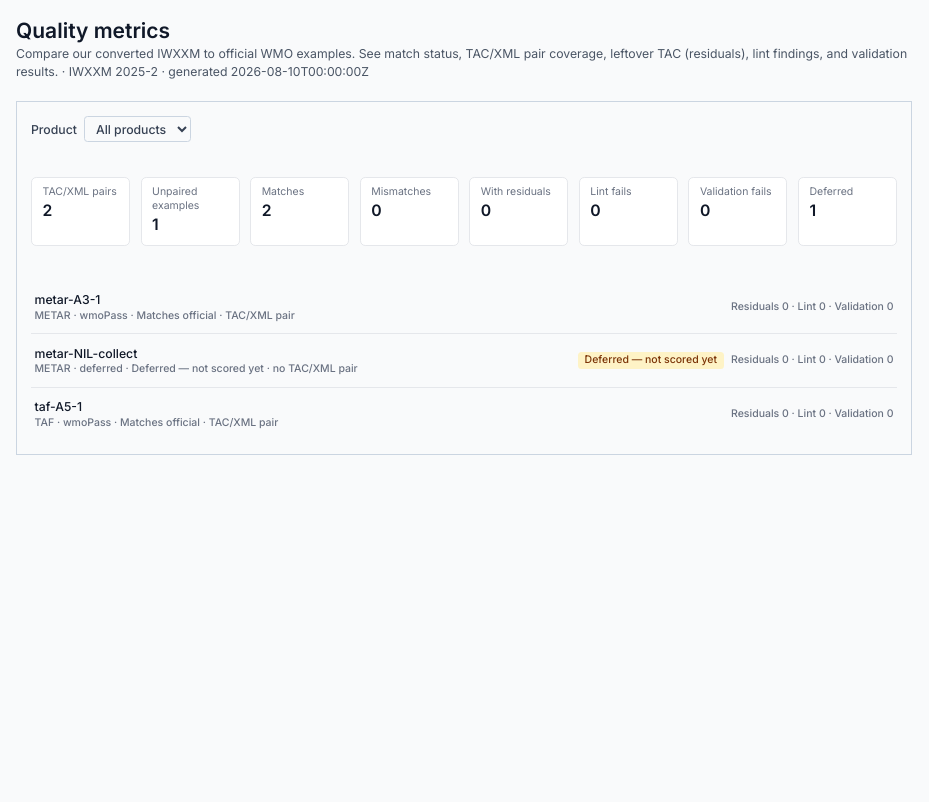
Test: QualityMetricsPage detail (TC-EV054-003..004) › shows unified diff body and non-empty diagnostics for unequal stem
Click the button with test id "quality-metrics-row-taf-A5-1": (58,406) [31, 388, 897, 440]
(page scrolled)
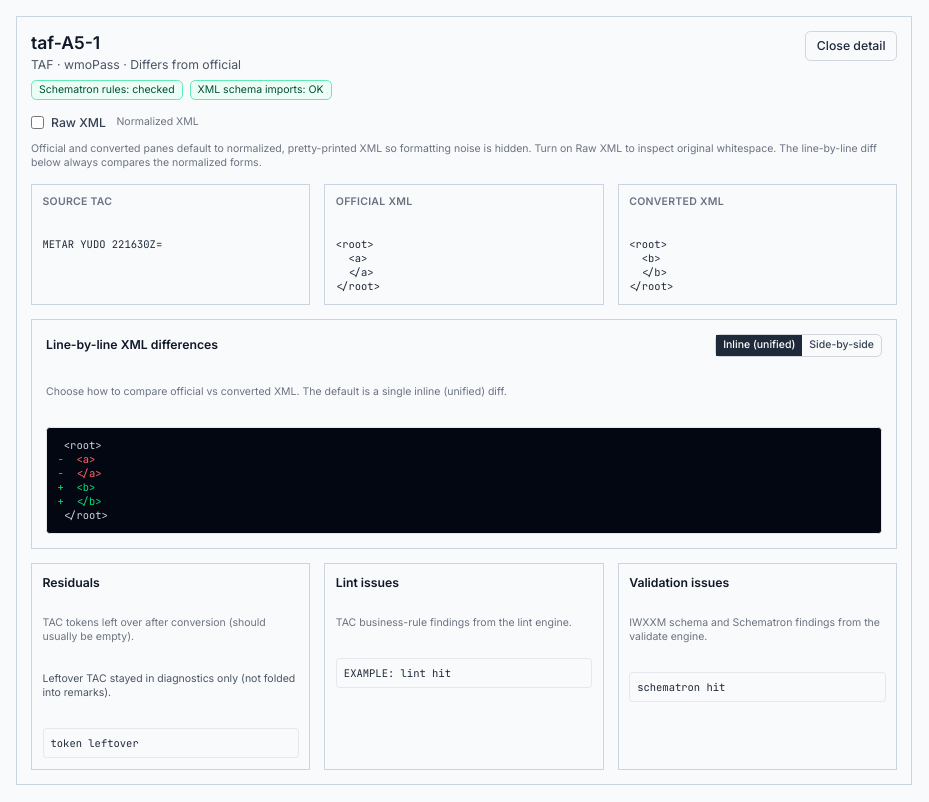
Result: the element with test id "quality-metrics-diff-body" is shown at [46, 426, 882, 534]
Result: the text with test id "quality-metrics-match-status" reads "Differs from official" at [130, 56, 241, 72]
Result: the element with test id "quality-metrics-diff-body" shows "<a>" at [64, 452, 95, 466]
